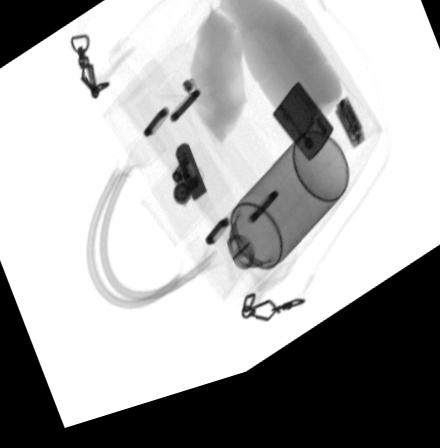Lighter: (272, 98, 332, 179)
Sprayer: (196, 149, 349, 317)
